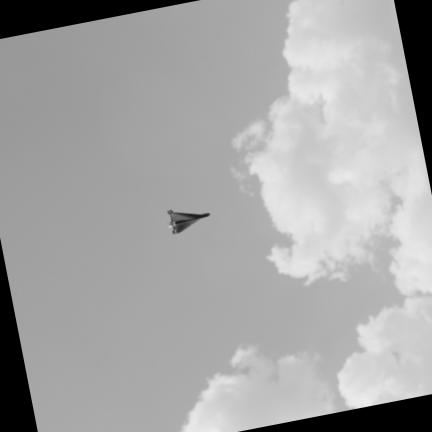Shahed: (169, 210, 209, 233)
